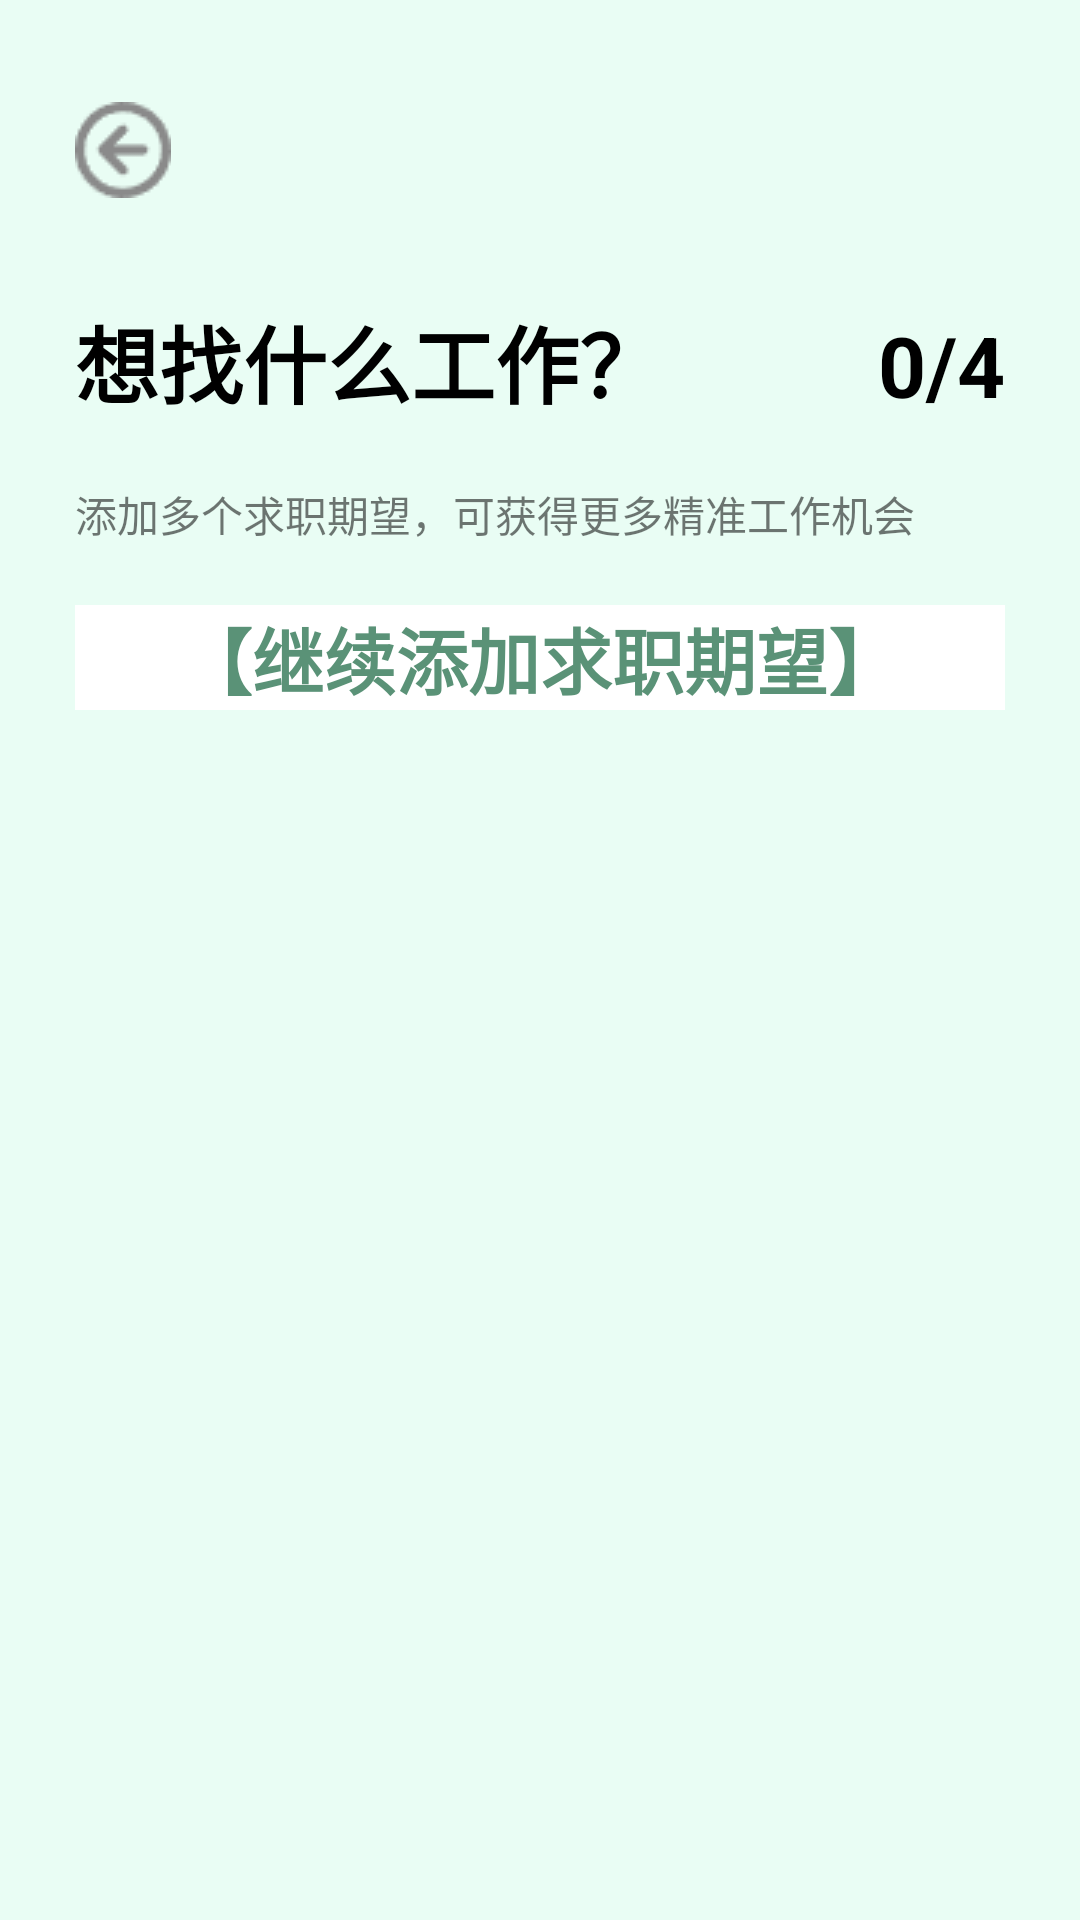

Screen size 1080 x 1920. Icon name, then its center in pixels as [x,y]:
fanjhui: [123,150]
